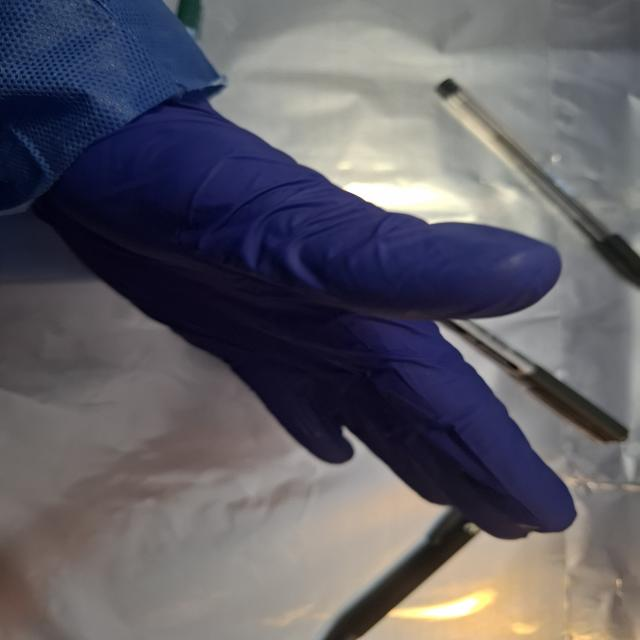glove_on: (26, 84, 583, 543)
